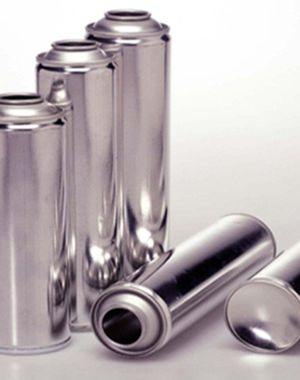Aerosol_cans: (88, 210, 280, 359), (1, 87, 77, 358)
